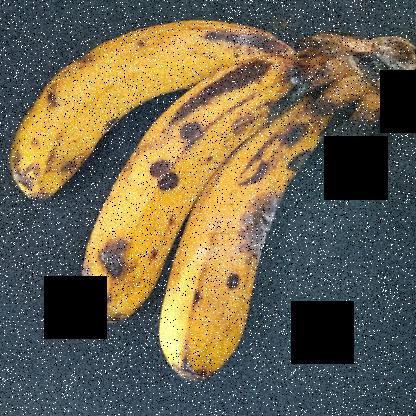overripe: (75, 35, 310, 341), (0, 10, 314, 212), (152, 90, 348, 387)
rotten: (215, 155, 326, 286)
